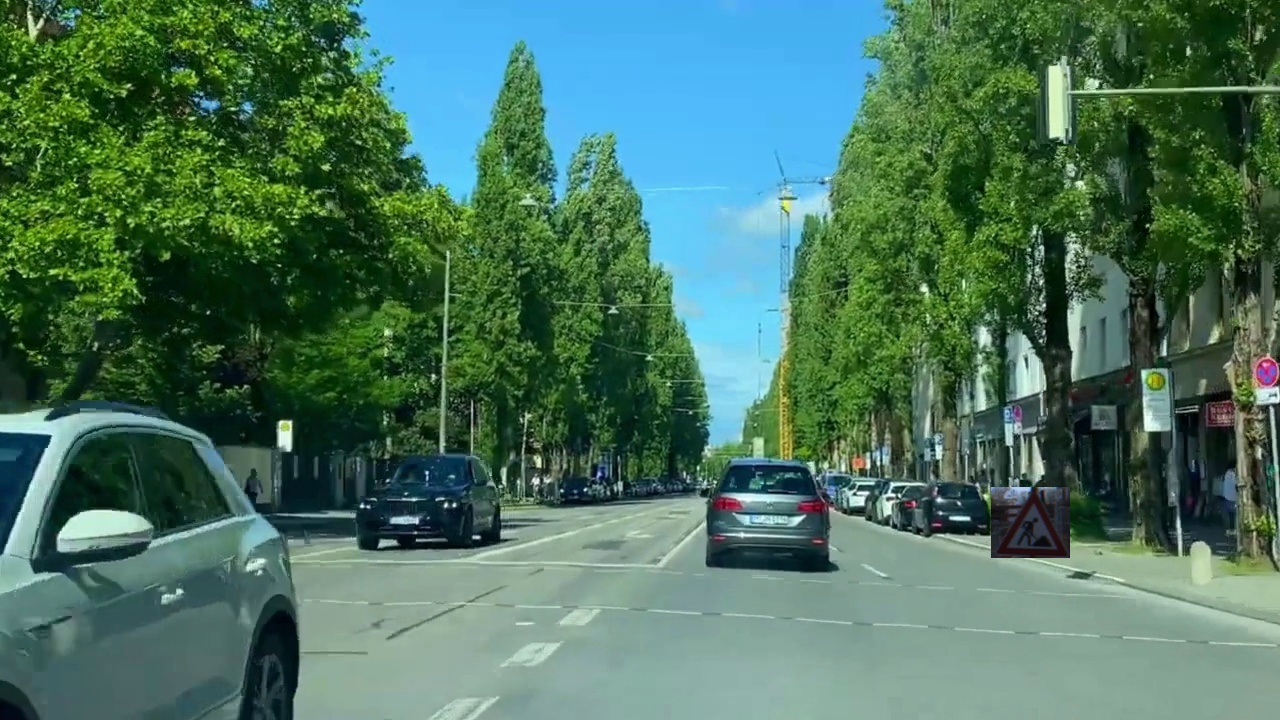Road work: (991, 487, 1070, 558)
